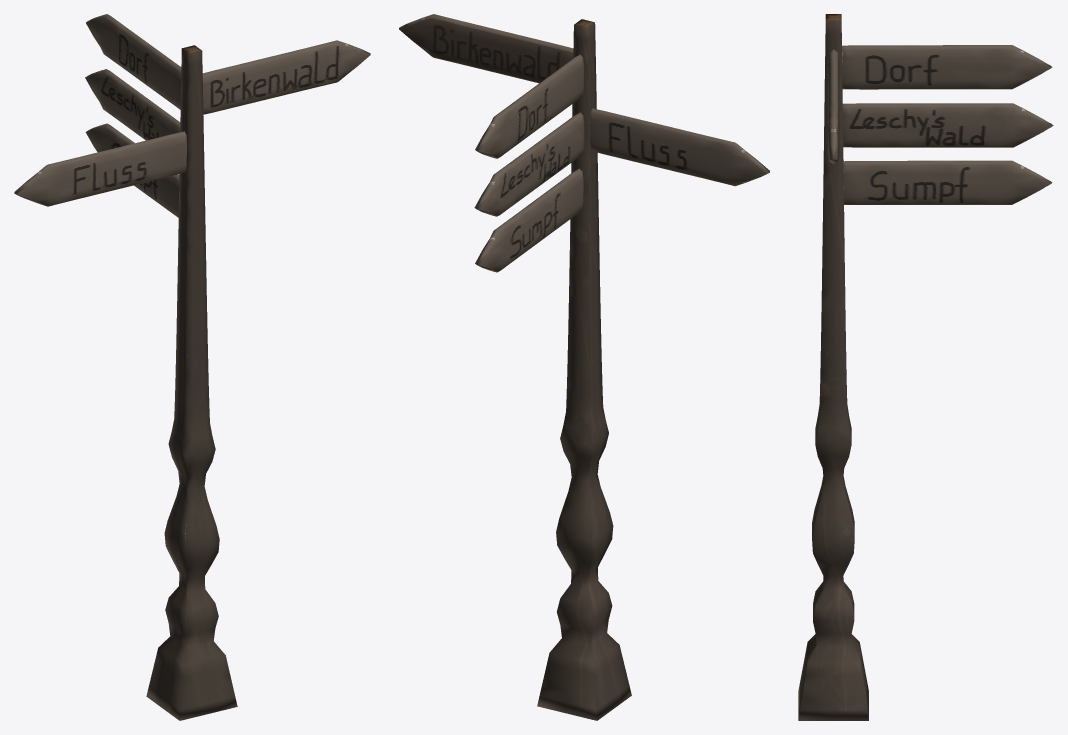
The model's file is Wegweiser.glb.
3 views of the same model, side by side, from view 1: azimuth 30°, elevation 25°; view 2: azimuth 150°, elevation 25°; view 3: azimuth 270°, elevation 25° (orthographic). The views are drawn at different scales.
Parts seen in each view (by area): view 1: Hauptfläche, Front_1, Front, Front_2, Front_4, Front_3; view 2: Hauptfläche, Front_1, Front, Front_4, Front_2, Front_3; view 3: Hauptfläche, Front_4, Front_2, Front_3, Front.
Boxes of the visible parts, box(x1,y1,x2,y2) form: Hauptfläche: box(146, 45, 237, 720); Front_1: box(14, 131, 186, 206); Front: box(202, 40, 370, 114); Front_2: box(86, 14, 181, 109); Front_4: box(85, 69, 180, 140); Front_3: box(85, 123, 179, 217); Hauptfläche: box(537, 19, 631, 720); Front_1: box(590, 108, 769, 186); Front: box(399, 14, 573, 83); Front_4: box(474, 112, 584, 216); Front_2: box(475, 54, 583, 158); Front_3: box(475, 168, 583, 272); Hauptfläche: box(798, 14, 868, 720); Front_4: box(842, 103, 1053, 147); Front_2: box(842, 45, 1052, 89); Front_3: box(843, 160, 1052, 204); Front: box(828, 49, 839, 164).
Size of the model in its own units: 1.49 by 2.6 by 0.8732.
Materials: 6 (6 with a texture image).
